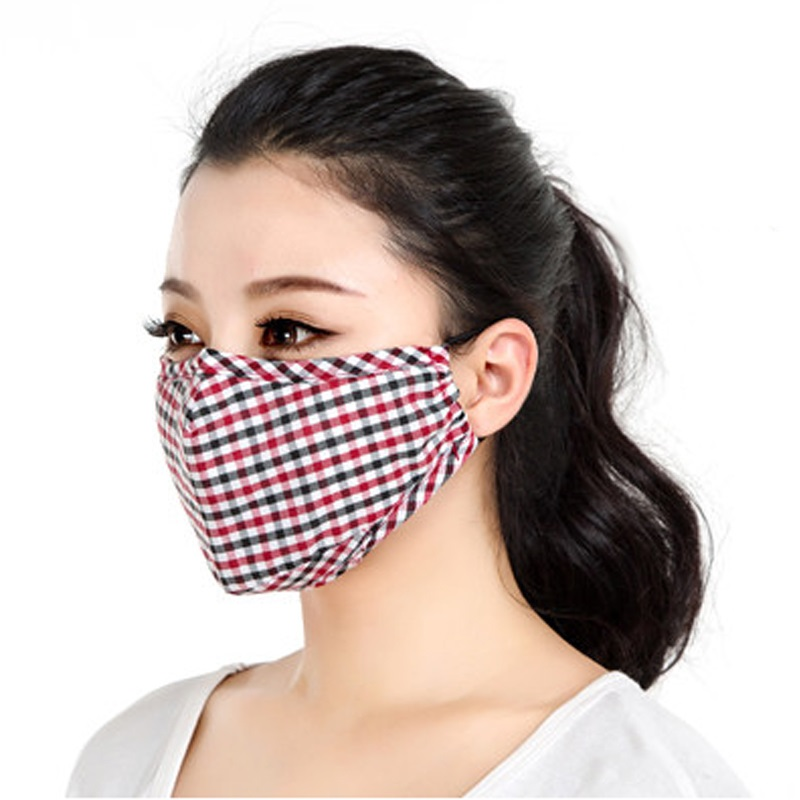face_mask: (147, 166, 442, 583)
